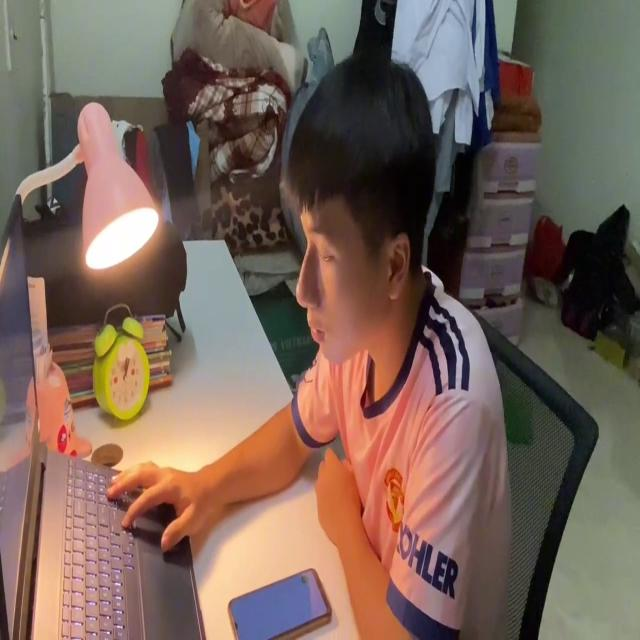laptop: (0, 188, 206, 640)
phone: (228, 563, 333, 640)
student: (106, 48, 517, 640)
